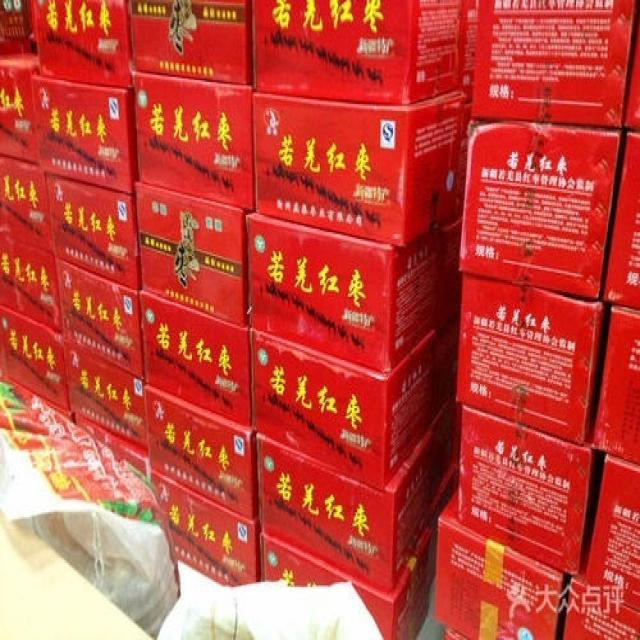box: (251, 87, 466, 249), (257, 415, 439, 592), (251, 321, 439, 488), (247, 212, 440, 374), (457, 118, 622, 300), (454, 273, 604, 445), (457, 404, 595, 577), (251, 0, 463, 106), (261, 509, 430, 640), (471, 0, 636, 128), (433, 486, 570, 640), (134, 177, 250, 328), (132, 72, 253, 208), (138, 288, 251, 430), (142, 384, 260, 519), (150, 469, 262, 589), (32, 72, 141, 195), (45, 172, 140, 294), (55, 258, 143, 379), (131, 0, 251, 84), (64, 338, 148, 451), (27, 0, 132, 90), (585, 456, 640, 611), (590, 305, 640, 464), (0, 304, 70, 413), (563, 548, 640, 640), (603, 131, 640, 311), (0, 232, 61, 336), (0, 155, 55, 256), (76, 415, 148, 480), (0, 51, 40, 164), (0, 370, 74, 423), (428, 466, 457, 584), (434, 312, 460, 413), (620, 2, 640, 131), (440, 215, 461, 321), (456, 102, 472, 220), (443, 626, 471, 640)
